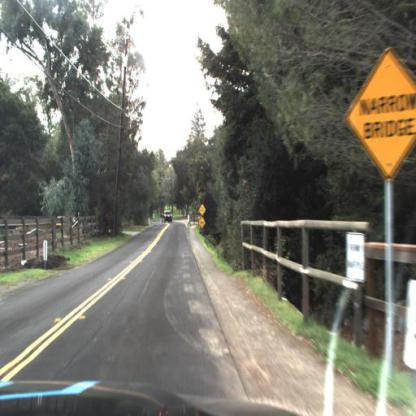car: (163, 210, 175, 224)
